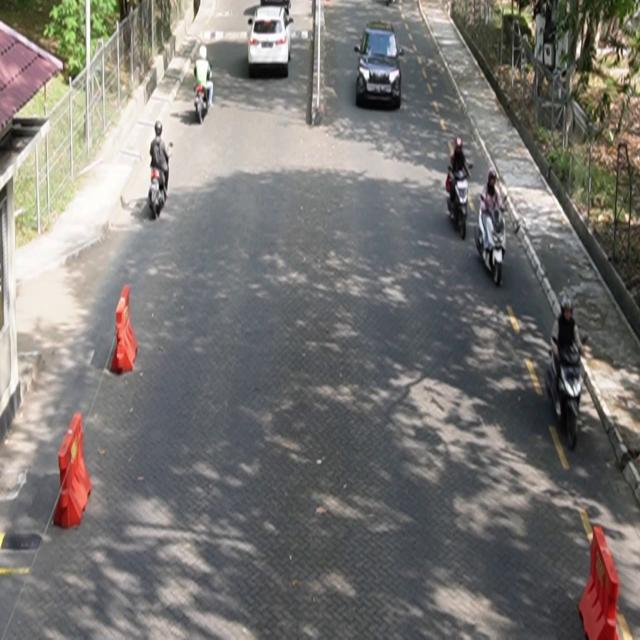car: (355, 20, 405, 110), (247, 4, 295, 78)
